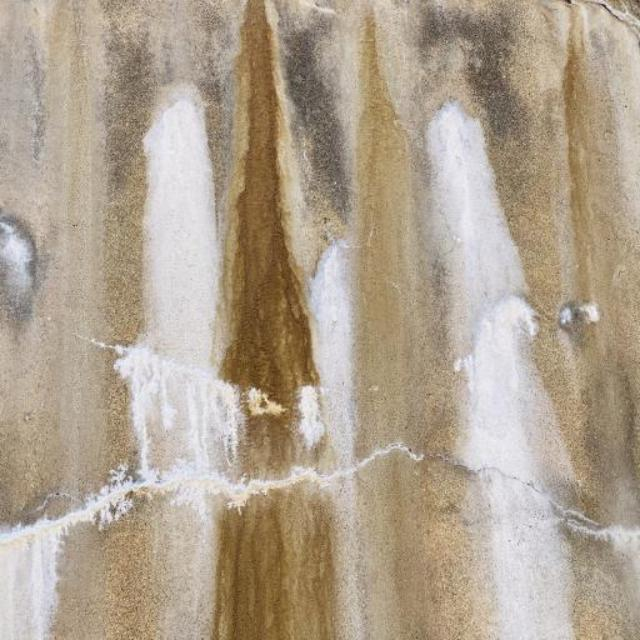D01: (0, 82, 411, 639), (430, 98, 573, 639), (0, 218, 32, 297)
